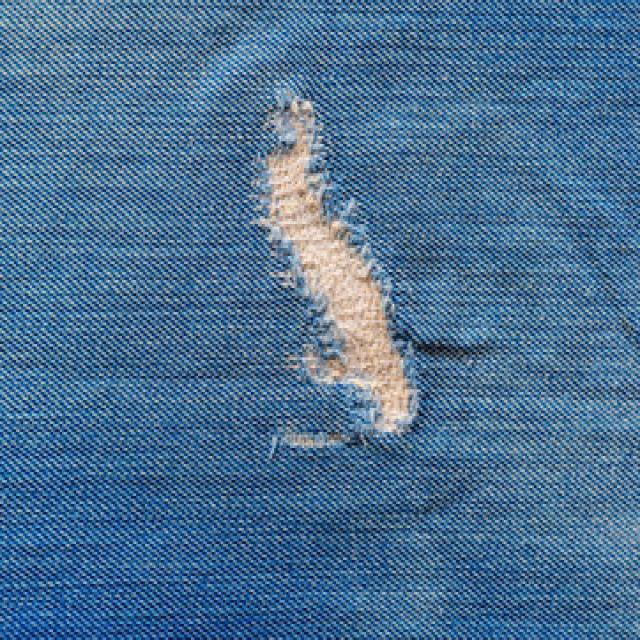Hole: (255, 88, 419, 450), (283, 433, 351, 449)
